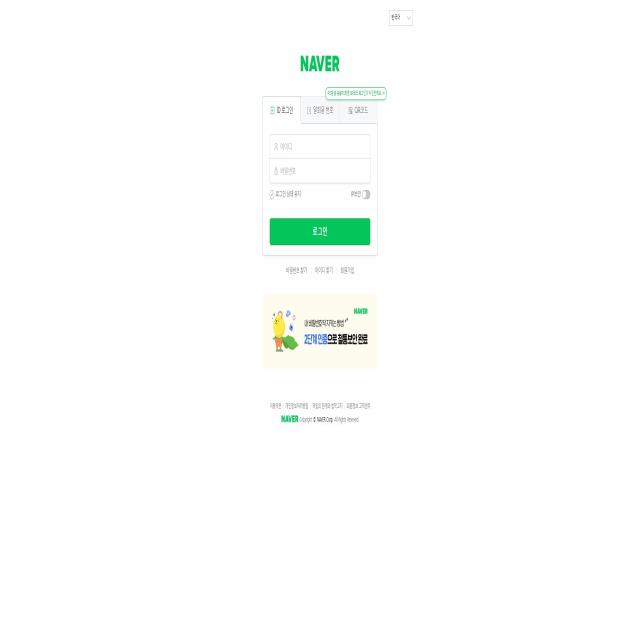button: (270, 218, 370, 246)
input: (269, 133, 371, 159), (269, 160, 371, 184)
select: (390, 11, 413, 26)
